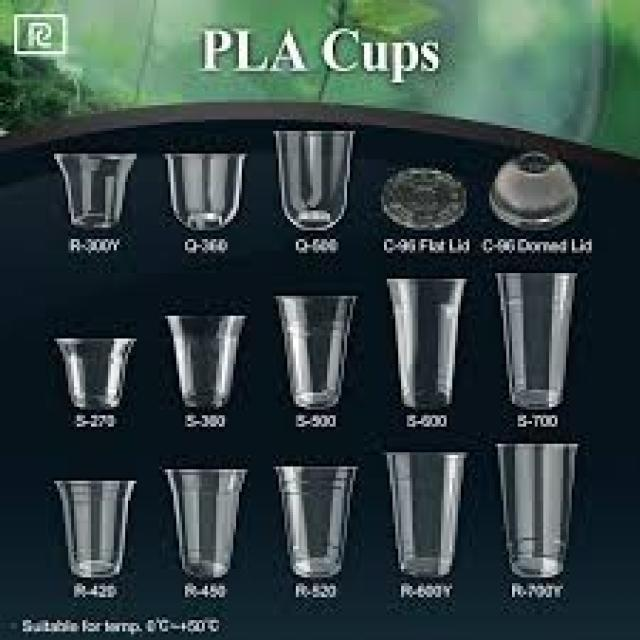cup: (498, 444, 578, 577), (499, 272, 576, 408), (388, 279, 466, 408), (388, 452, 466, 577), (276, 466, 358, 578), (166, 469, 248, 578), (277, 296, 356, 408), (54, 480, 134, 578), (277, 130, 354, 231), (167, 315, 246, 409), (166, 154, 246, 231), (54, 154, 136, 228), (56, 339, 136, 409)
